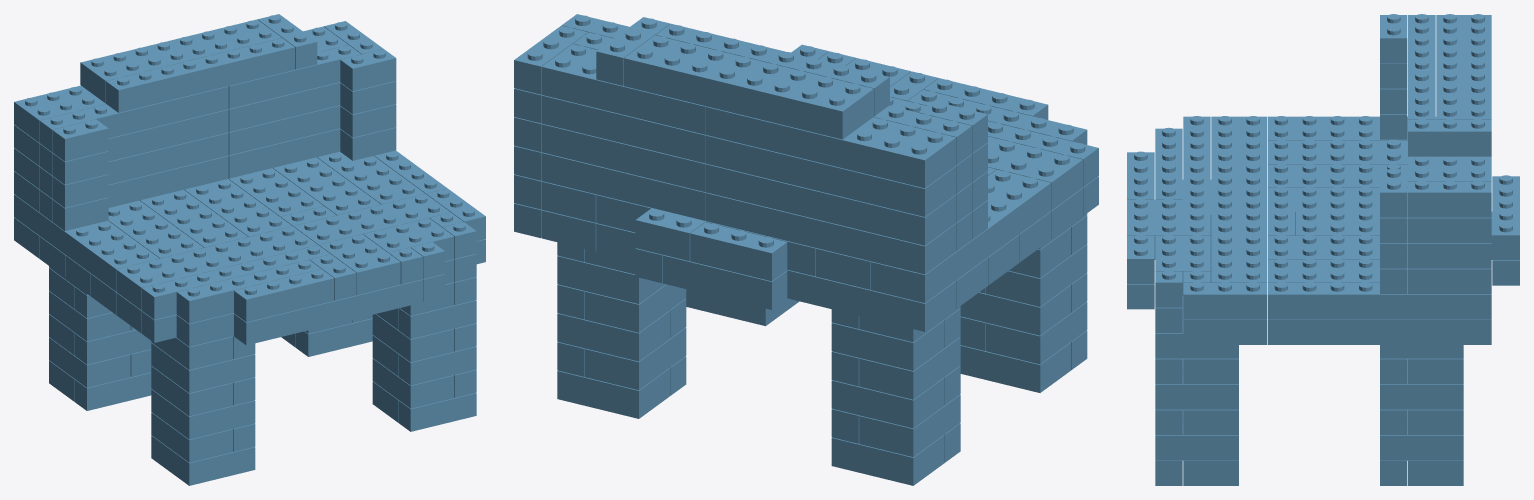
The model's file is 152_chair_L2.glb.
3 renders of one model, left to right at view 1: azimuth 30°, elevation 25°; view 2: azimuth 150°, elevation 25°; view 3: azimuth 270°, elevation 25°, orthographic. The views are drawn at different scales.
Bounding box in the file's own units: 14.98 × 13.13 × 13.98.
